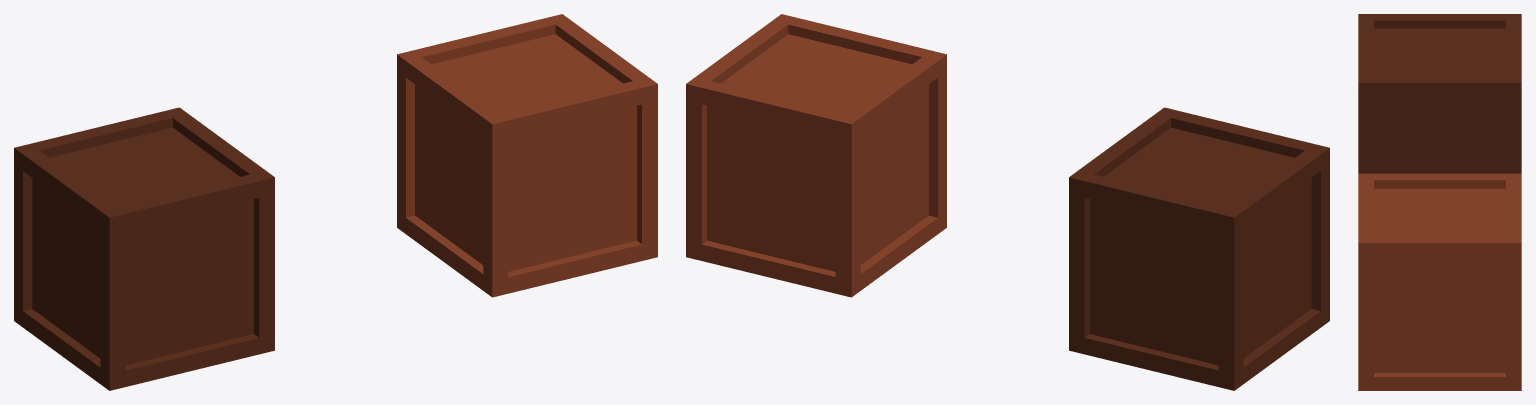
3 renders of one model, left to right at view 1: azimuth 30°, elevation 25°; view 2: azimuth 150°, elevation 25°; view 3: azimuth 270°, elevation 25°, orthographic. The views are drawn at different scales.
Visible parts, largest first — view 1: Cube.005, Cube.007; view 2: Cube.005, Cube.007; view 3: Cube.005, Cube.007.
Boxes of the visible parts, x1,y1,x2,y2 form: Cube.005: (397,14,657,297); Cube.007: (14,107,274,390); Cube.005: (686,14,946,297); Cube.007: (1069,107,1329,390); Cube.005: (1358,173,1521,390); Cube.007: (1358,14,1521,173).
Bounding box in the file's own units: 163 × 49.16 × 49.16.
